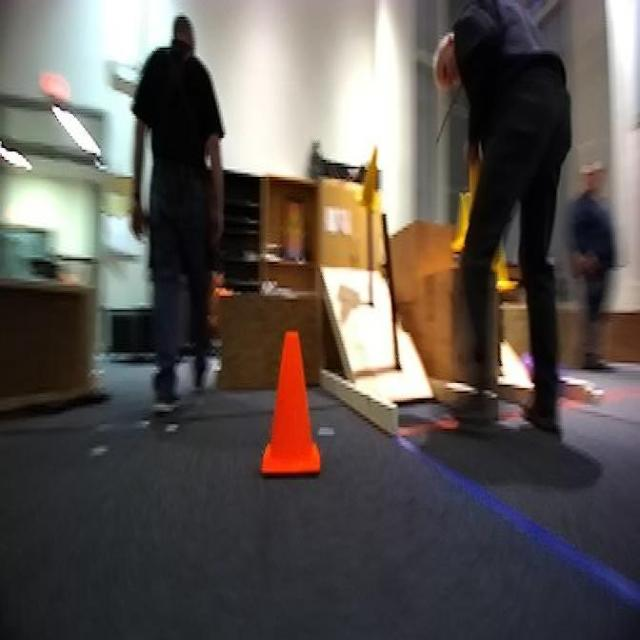frc_cone: (356, 145, 384, 209), (451, 188, 474, 255), (491, 240, 518, 294)
frc_cube: (544, 348, 573, 403)
